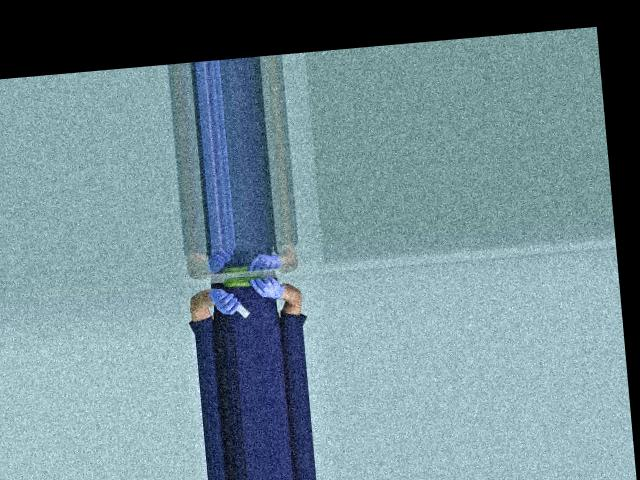cucumber: (222, 275, 262, 288)
